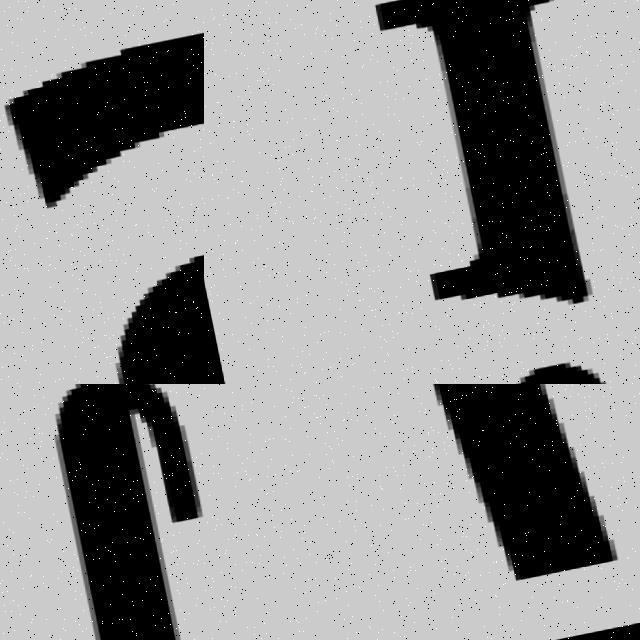I: (360, 0, 640, 384)
L: (302, 384, 608, 619)
S: (0, 0, 204, 384)
T: (14, 384, 204, 640)
